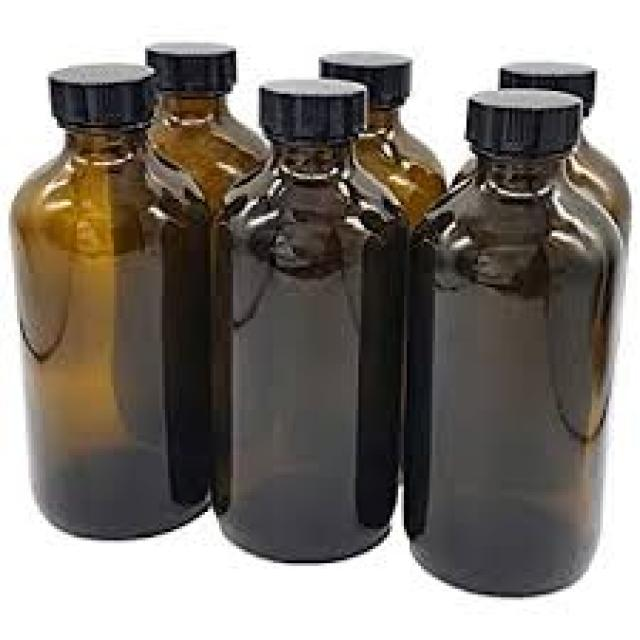glass: (404, 151, 620, 594), (9, 119, 216, 535), (210, 142, 404, 558), (447, 131, 626, 304), (154, 94, 265, 236), (353, 103, 444, 231)
plastic: (461, 85, 580, 151), (256, 77, 361, 136), (46, 63, 151, 122), (313, 49, 409, 103), (495, 57, 594, 108), (140, 40, 234, 85)
